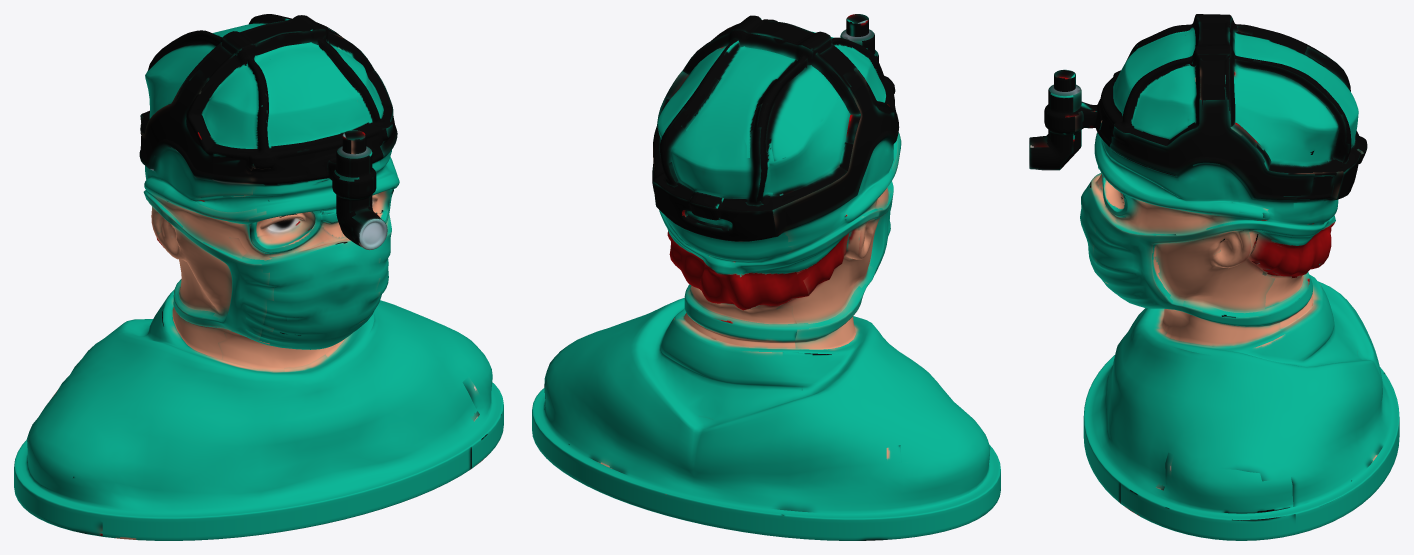
The model's file is surgeon.glb.
3 renders of one model, left to right at view 1: azimuth 30°, elevation 25°; view 2: azimuth 150°, elevation 25°; view 3: azimuth 270°, elevation 25°, orthographic. The views are drawn at different scales.
Visible parts, largest first — view 1: Surgeon; view 2: Surgeon; view 3: Surgeon.
Part boxes in pixels (bbox=[...]): Surgeon: bbox=[14, 14, 503, 540]; Surgeon: bbox=[532, 14, 1000, 540]; Surgeon: bbox=[1029, 14, 1399, 540].
Bounding box in the file's own units: 2.81 × 2.58 × 2.11.
1 material, 1 textured.
